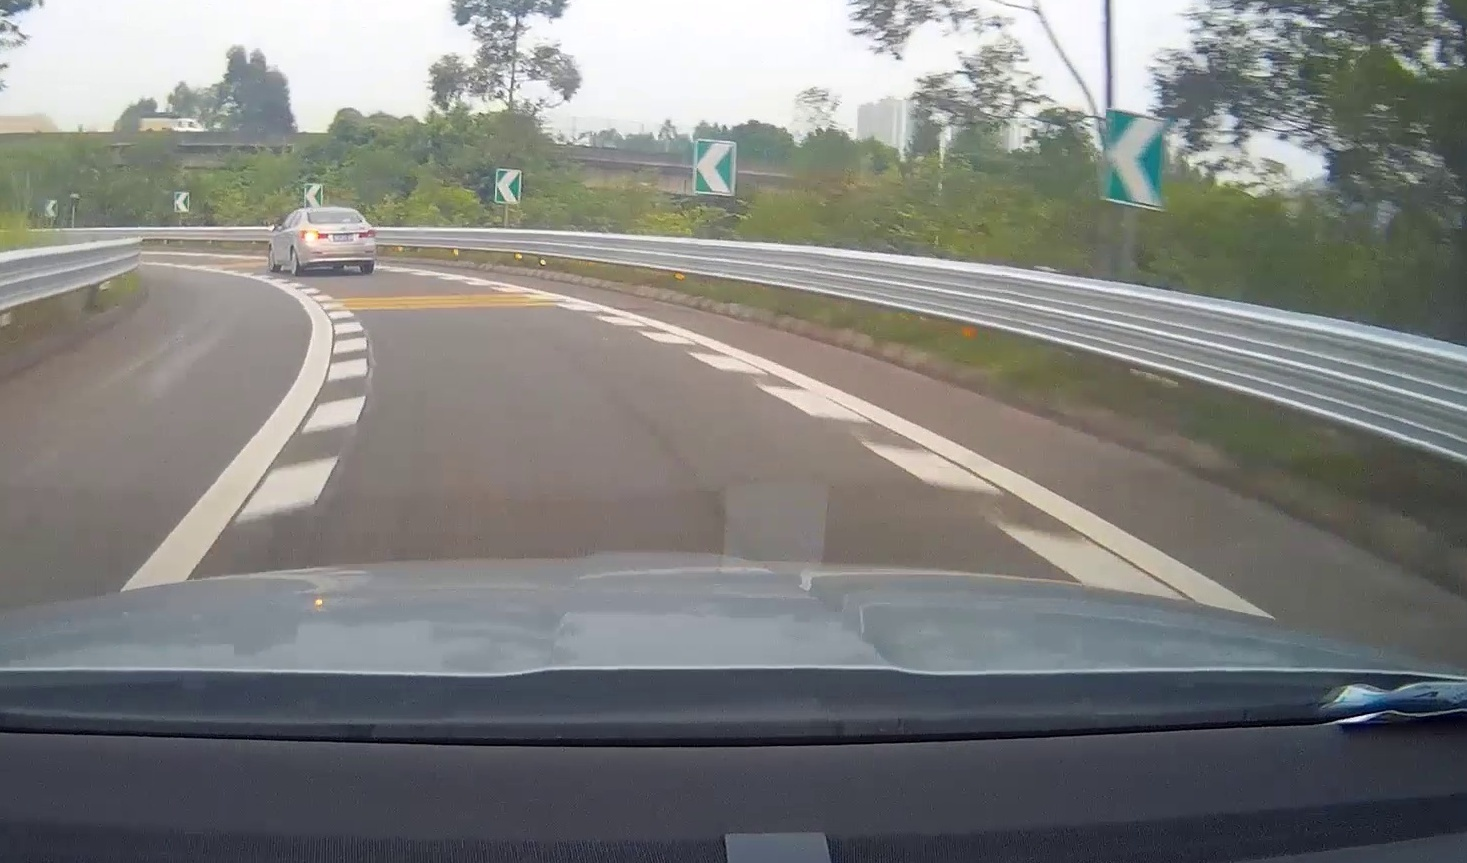L_light: (301, 231, 330, 239)
R_light: (359, 229, 375, 237)
T_light: (329, 210, 342, 212)
day-left: (298, 208, 376, 274)
